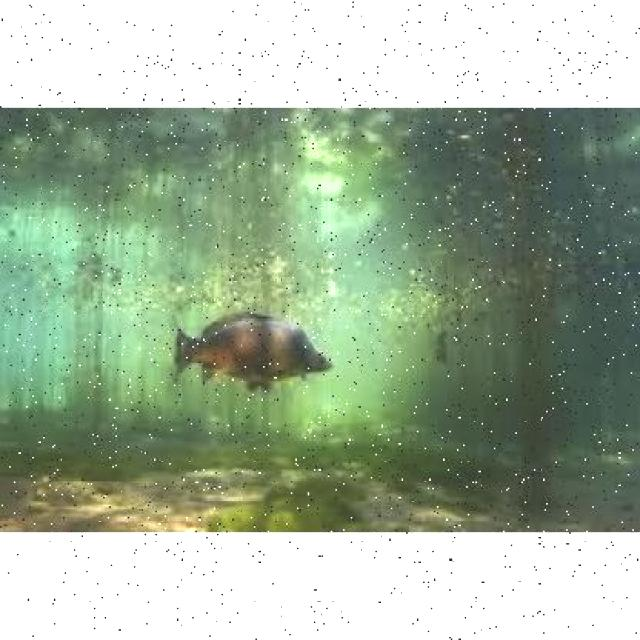ikan-mas: (164, 307, 343, 382)
